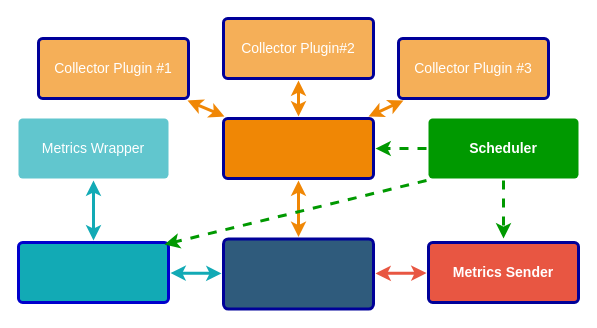
The diagram is 597 pixels wide and 328 high, and some of its shapes have lost their labels. The box of each missing label's shape, as (x1, y1, x2, y2) in pixels:
Metrics Aggregator: (16, 240, 170, 304)
Metrics Collector: (222, 116, 374, 180)
Storage: (222, 237, 374, 310)
